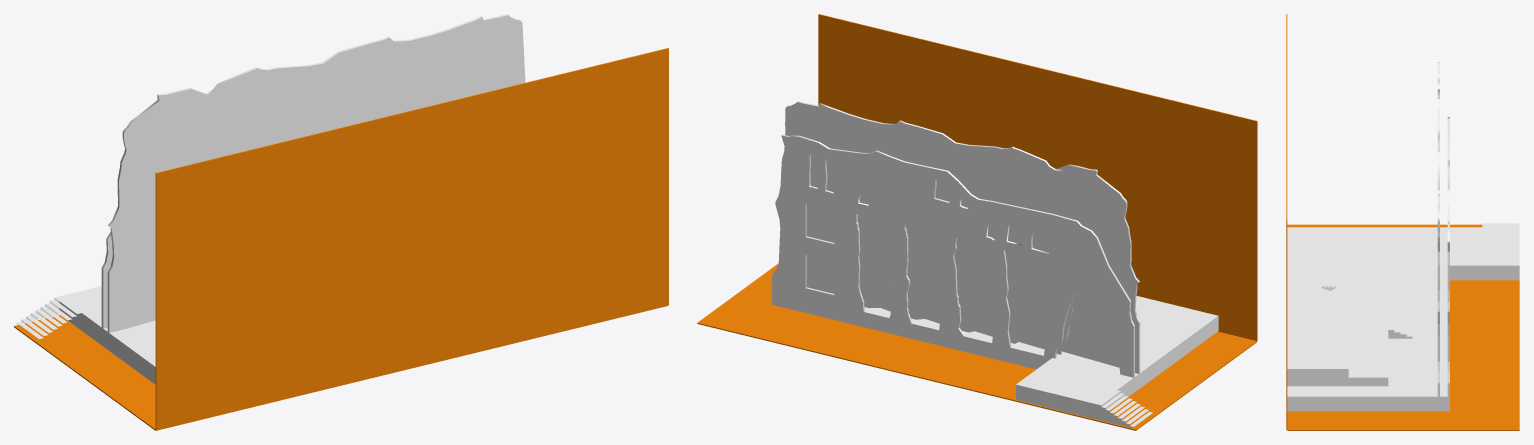
The model's file is page4.fbx.
The picture shows the model from 3 angles, left to right: view 1: azimuth 30°, elevation 25°; view 2: azimuth 150°, elevation 25°; view 3: azimuth 270°, elevation 25°; orthographic projection. The views are drawn at different scales.
Visible parts, largest first — view 1: pasted__pCube2, pasted__Mesh11, pasted__pCube1, pasted__Mesh3, pasted__Mesh10, pasted__Mesh5, pasted__Mesh12; view 2: pasted__pCube2, pasted__Mesh11, pasted__Mesh12, pasted__pCube1, pasted__Mesh3, pasted__Mesh10, pasted__Mesh5; view 3: pasted__Mesh3, pasted__pCube1, pasted__Mesh9, pasted__Mesh10, pasted__Mesh11, pasted__Mesh12, pasted__pCube2, pasted__Mesh8.
Part boxes in pixels (bbox=[...]): pasted__pCube2: bbox=[155, 48, 668, 429]; pasted__Mesh11: bbox=[107, 14, 525, 332]; pasted__pCube1: bbox=[14, 305, 668, 430]; pasted__Mesh3: bbox=[101, 320, 155, 384]; pasted__Mesh10: bbox=[59, 286, 101, 344]; pasted__Mesh5: bbox=[16, 296, 81, 339]; pasted__Mesh12: bbox=[101, 232, 112, 328]; pasted__pCube2: bbox=[818, 14, 1257, 340]; pasted__Mesh11: bbox=[778, 101, 1140, 373]; pasted__Mesh12: bbox=[772, 134, 1134, 377]; pasted__pCube1: bbox=[697, 263, 1256, 430]; pasted__Mesh3: bbox=[772, 289, 1218, 392]; pasted__Mesh10: bbox=[1016, 358, 1133, 419]; pasted__Mesh5: bbox=[1097, 390, 1152, 428]; pasted__Mesh3: bbox=[1287, 227, 1449, 411]; pasted__pCube1: bbox=[1287, 224, 1519, 430]; pasted__Mesh9: bbox=[1287, 266, 1388, 386]; pasted__Mesh10: bbox=[1450, 227, 1519, 280]; pasted__Mesh11: bbox=[1437, 62, 1439, 396]; pasted__Mesh12: bbox=[1447, 117, 1449, 396]; pasted__pCube2: bbox=[1286, 14, 1287, 429]; pasted__Mesh8: bbox=[1388, 321, 1412, 338].
Bounding box in the file's own units: 4057 × 1951 × 1951.
